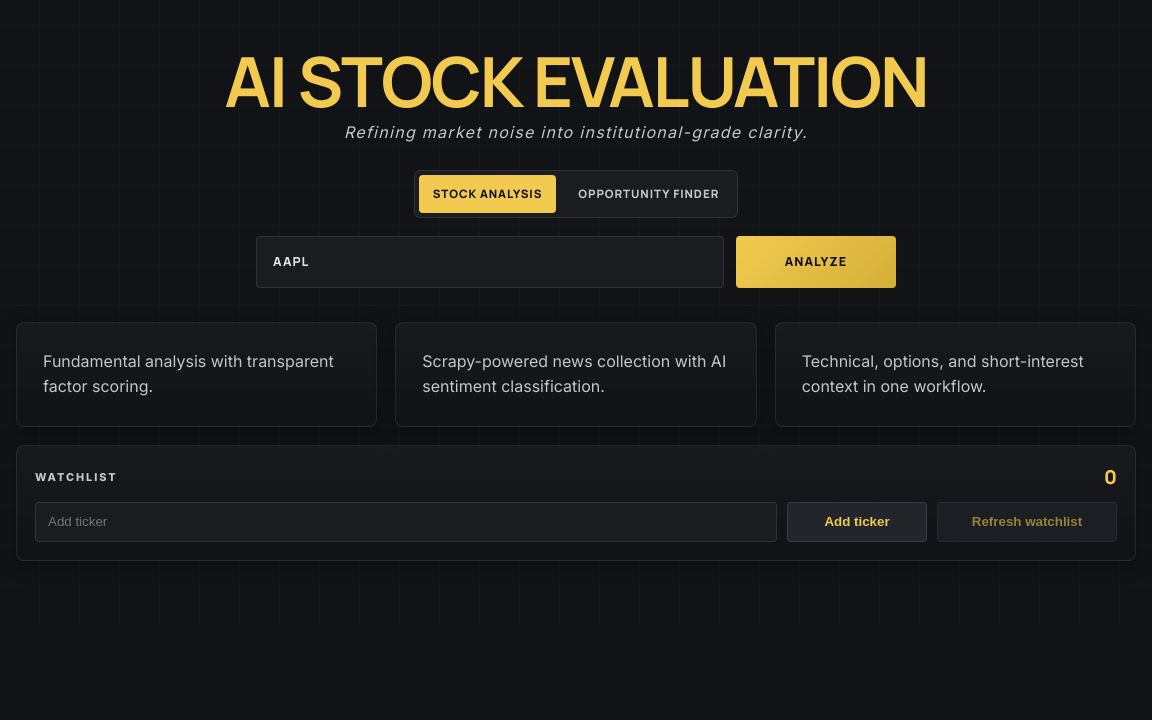
App › adds, refreshes, compares, and removes watchlist tickers
Type "AAPL" into the field named "watchlist ticker" at (406, 522), box left=35, top=502, right=777, bottom=542
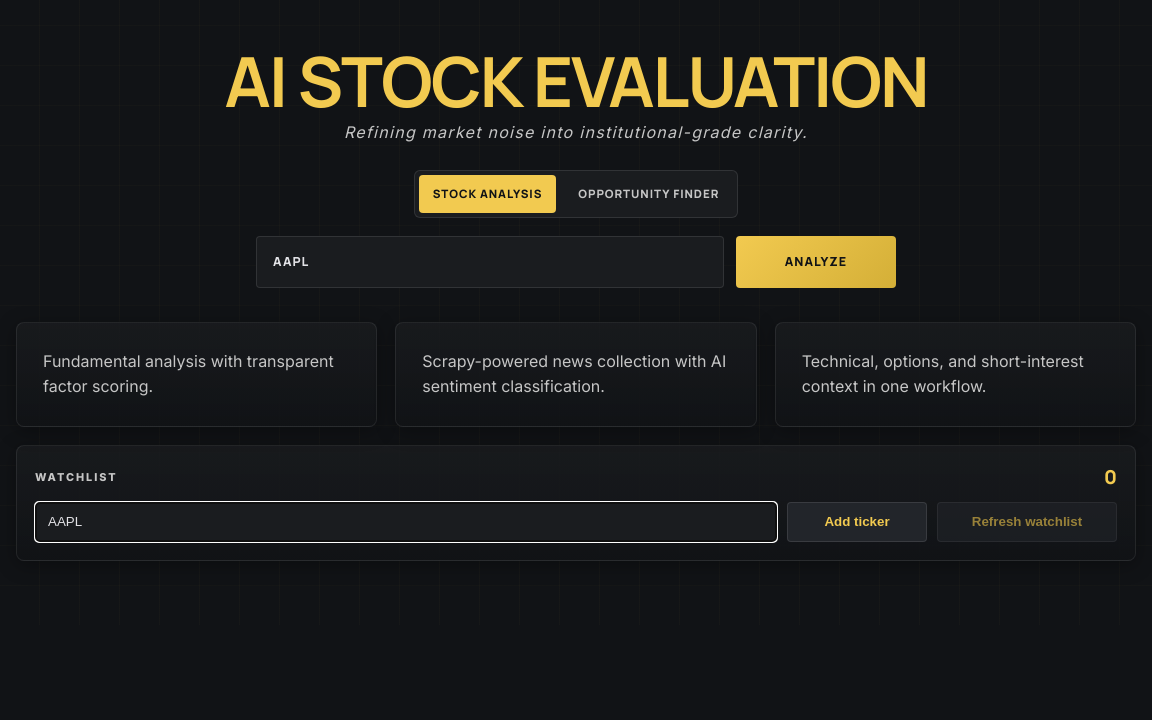
Click the button "Add ticker" at (857, 522), box left=787, top=502, right=927, bottom=542
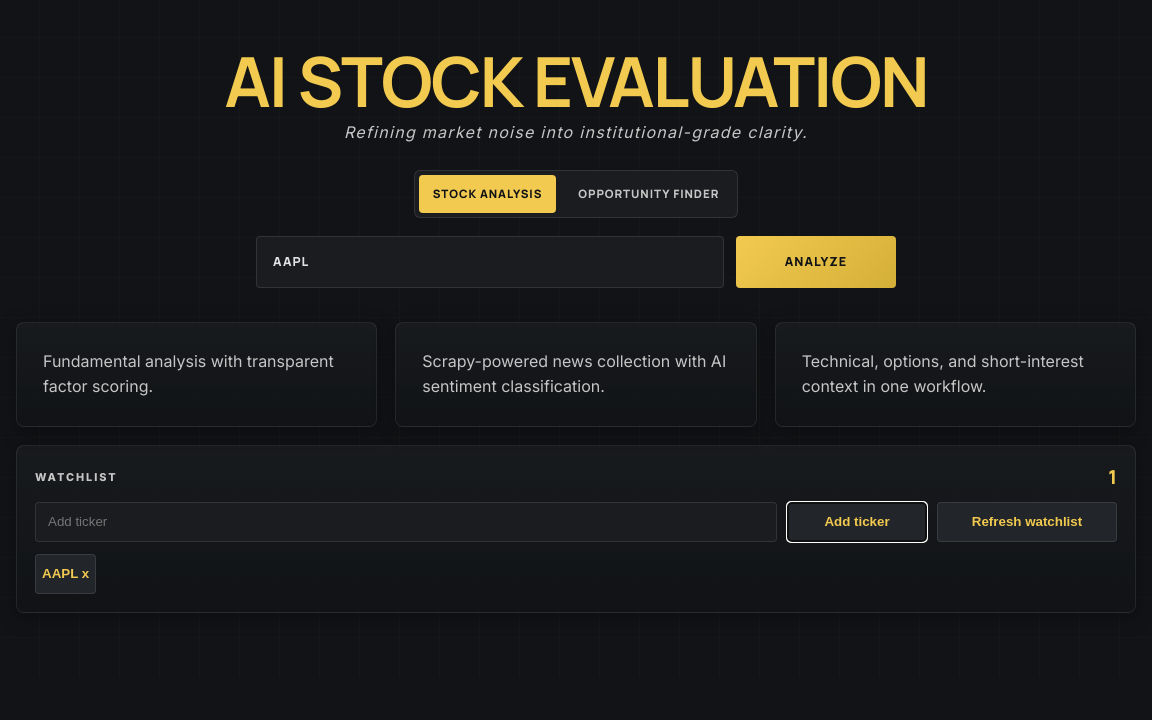
Click the button "Refresh watchlist" at (1027, 522), box left=937, top=502, right=1117, bottom=542
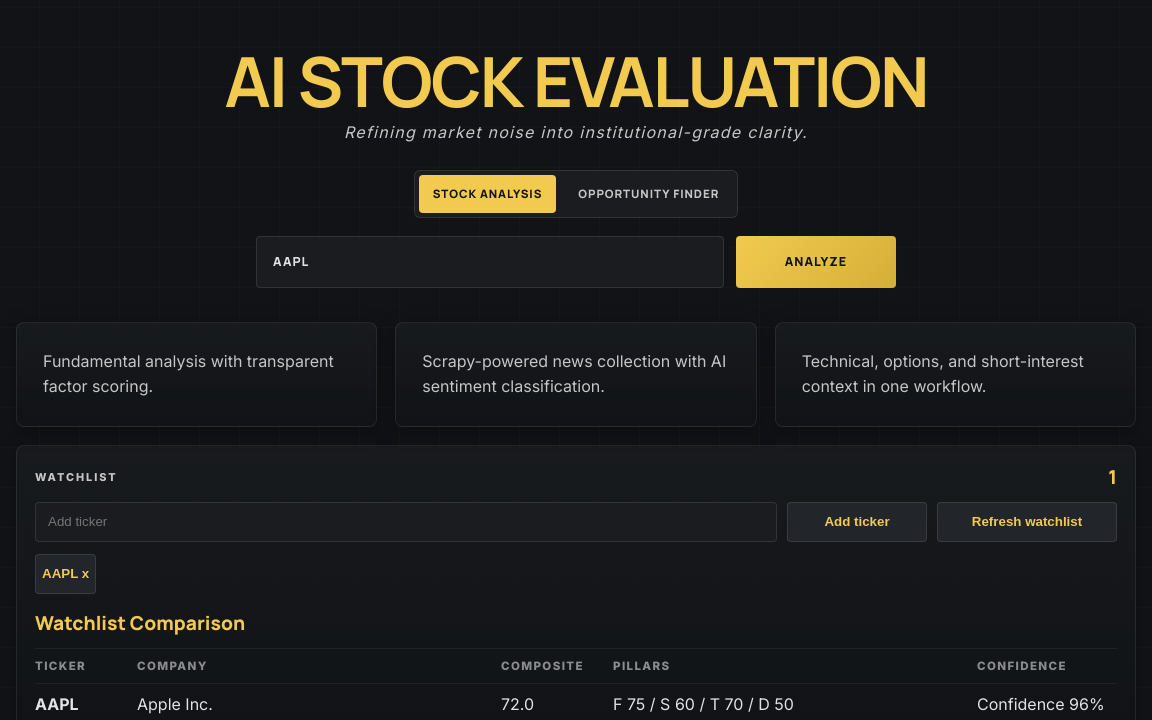
expect the heading "Watchlist Comparison" is shown: met, box left=35, top=610, right=245, bottom=636
expect the text "Apple Inc." is shown: met, box left=137, top=694, right=213, bottom=714
expect the text "Confidence 96%" is shown: met, box left=977, top=694, right=1117, bottom=714
Click the button with aria-label "remove AAPL" at (66, 574), box left=35, top=554, right=96, bottom=594
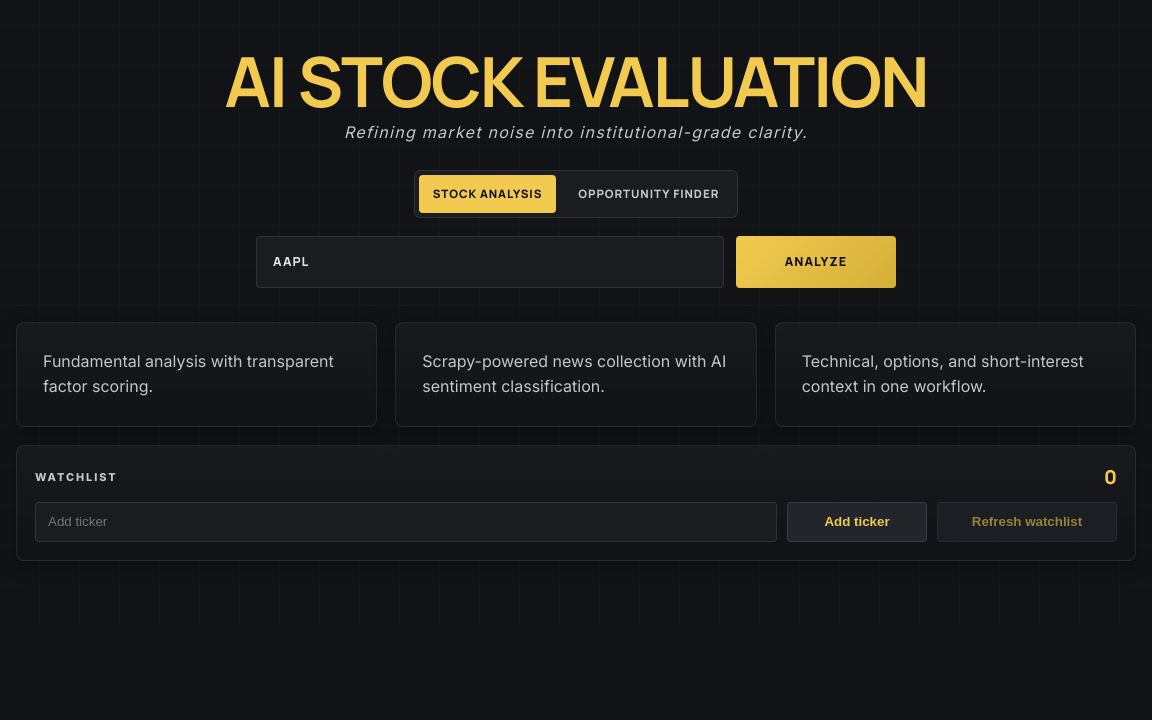
expect the heading "Watchlist Comparison" is gone: met
